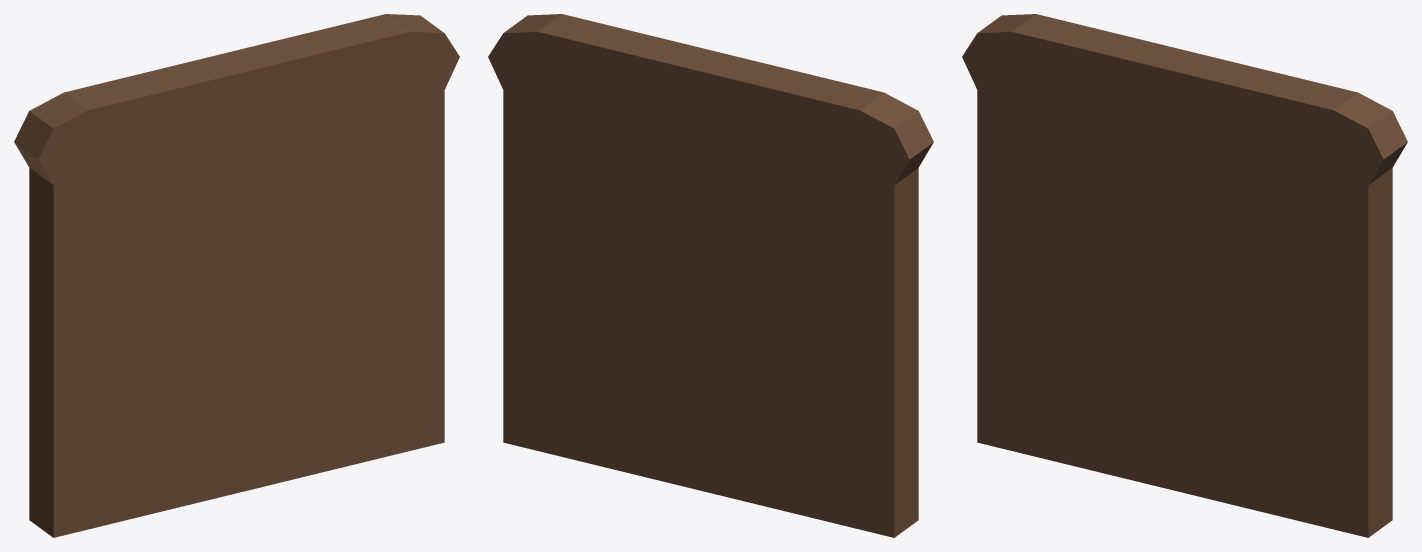
Rendered from bread.glb.
3 renders of one model, left to right at view 1: azimuth 30°, elevation 25°; view 2: azimuth 150°, elevation 25°; view 3: azimuth 330°, elevation 25°, orthographic.
Visible parts, largest first — view 1: Cube.001; view 2: Cube.001; view 3: Cube.001.
Boxes of the visible parts, x1,y1,x2,y2 form: Cube.001: (14, 14, 459, 537); Cube.001: (488, 14, 933, 537); Cube.001: (962, 14, 1407, 537).
Bounding box in the file's own units: 6.91 × 6.57 × 0.6911.
